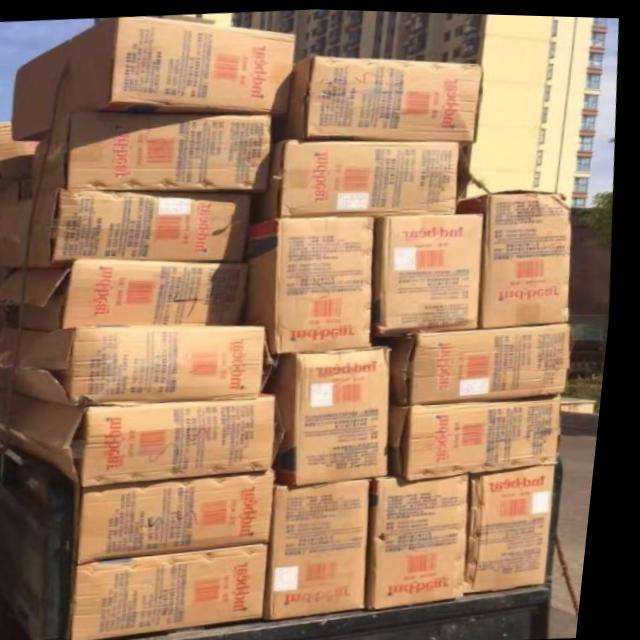box: (16, 15, 296, 141), (0, 390, 284, 487), (0, 323, 281, 408), (35, 109, 273, 197), (0, 188, 256, 269), (80, 540, 281, 640), (84, 468, 286, 564), (0, 258, 254, 332), (273, 52, 482, 140), (246, 214, 379, 352), (275, 342, 401, 484), (254, 137, 462, 222), (378, 318, 580, 403), (461, 185, 576, 325), (396, 390, 574, 477), (273, 477, 380, 618), (377, 209, 488, 336), (378, 470, 480, 607), (477, 461, 568, 593), (0, 121, 37, 189)
